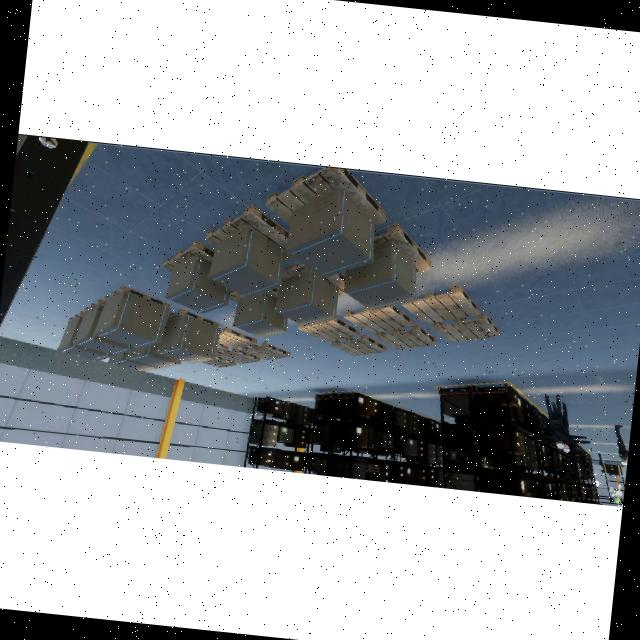wooden_pallet: (265, 165, 387, 226), (206, 204, 292, 264), (401, 285, 479, 324), (373, 225, 431, 273), (431, 313, 500, 343), (344, 305, 415, 334), (102, 286, 172, 310), (297, 317, 360, 343), (161, 241, 213, 272), (375, 326, 438, 350), (332, 335, 387, 357), (166, 310, 221, 328), (241, 342, 290, 361), (217, 327, 257, 348), (216, 348, 261, 365), (200, 355, 236, 368), (215, 343, 229, 352)
